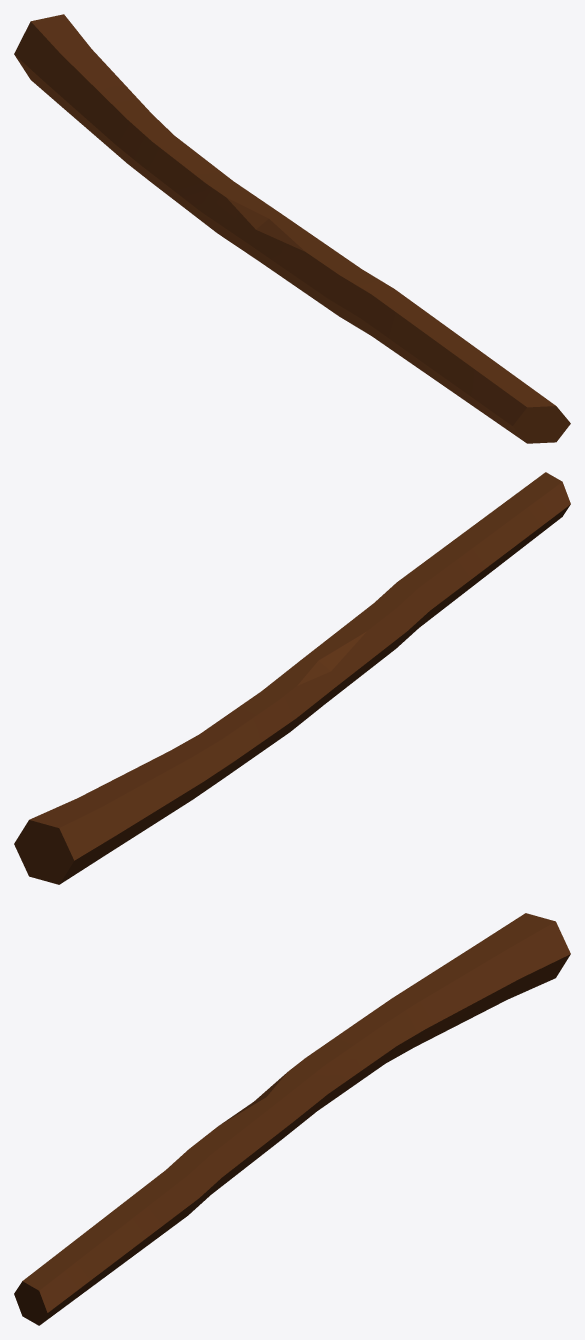
Rendered from IL3DN_Dead_Branch_03.FBX.
The picture shows the model from 3 angles, top to bottom: view 1: azimuth 30°, elevation 25°; view 2: azimuth 150°, elevation 25°; view 3: azimuth 330°, elevation 25°; orthographic projection. The views are drawn at different scales.
Parts seen in each view (by area): view 1: Nature_Dead_Branch_03; view 2: Nature_Dead_Branch_03; view 3: Nature_Dead_Branch_03.
Part boxes in pixels (<box>): Nature_Dead_Branch_03: <box>14,14,570,443</box>; Nature_Dead_Branch_03: <box>14,472,570,884</box>; Nature_Dead_Branch_03: <box>14,913,570,1325</box>.
Size of the model in its own units: 1.47 by 0.9608 by 15.38.
